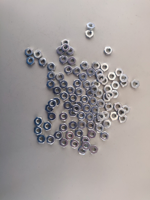nut: (37, 135, 47, 144), (48, 112, 57, 122), (54, 131, 64, 140), (60, 138, 69, 148), (60, 123, 69, 133), (90, 145, 99, 155), (101, 131, 110, 141), (117, 108, 126, 118), (83, 80, 92, 90), (119, 79, 129, 88), (34, 117, 43, 126), (44, 122, 53, 131), (60, 112, 69, 121), (69, 121, 78, 130), (82, 142, 91, 151), (88, 130, 97, 139), (87, 122, 96, 131), (96, 124, 105, 133), (86, 113, 95, 122), (131, 80, 140, 89), (101, 111, 110, 120), (119, 114, 128, 123), (114, 103, 123, 112), (104, 47, 113, 56), (26, 57, 35, 66), (39, 58, 48, 67), (47, 71, 56, 80), (47, 80, 56, 89), (66, 47, 75, 56), (68, 57, 77, 66), (48, 100, 57, 109), (69, 94, 78, 103), (91, 106, 100, 115), (89, 97, 98, 106), (81, 95, 90, 104), (79, 73, 88, 82), (90, 85, 99, 94), (86, 89, 95, 98), (95, 89, 104, 98), (111, 90, 120, 99), (120, 74, 129, 83), (112, 81, 121, 90), (108, 72, 117, 81), (47, 135, 55, 145), (71, 139, 79, 149), (76, 129, 84, 139), (34, 50, 42, 60), (73, 104, 81, 114), (96, 100, 106, 108), (66, 132, 75, 140), (79, 146, 87, 155), (79, 121, 87, 130), (104, 120, 112, 129), (95, 116, 103, 125), (97, 113, 106, 121), (111, 112, 119, 121), (123, 105, 131, 114), (105, 103, 114, 111), (87, 23, 96, 31), (48, 62, 56, 71), (57, 73, 65, 82), (65, 66, 73, 75), (60, 55, 68, 64), (57, 46, 65, 55), (62, 39, 70, 48), (73, 67, 81, 76), (54, 86, 62, 95), (46, 104, 54, 113), (61, 92, 69, 101), (64, 102, 73, 110), (83, 105, 92, 113), (75, 102, 84, 110), (75, 88, 84, 96), (60, 80, 68, 89), (74, 79, 82, 88), (87, 68, 95, 77), (92, 62, 101, 70), (101, 63, 109, 72), (104, 85, 113, 93), (116, 69, 125, 77), (35, 127, 43, 135), (82, 137, 90, 145), (78, 112, 86, 120), (86, 30, 94, 38), (25, 48, 33, 56), (62, 44, 70, 52), (81, 62, 89, 70), (53, 98, 61, 106), (69, 109, 77, 117), (67, 86, 75, 94), (98, 74, 106, 82), (103, 94, 111, 102), (101, 77, 109, 85), (107, 91, 114, 100), (96, 69, 103, 77), (93, 80, 101, 87)
